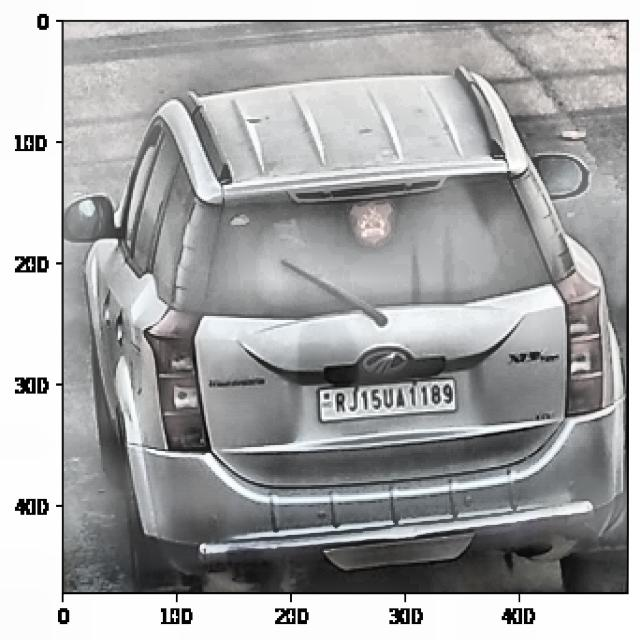license_plate: (328, 381, 458, 417)
